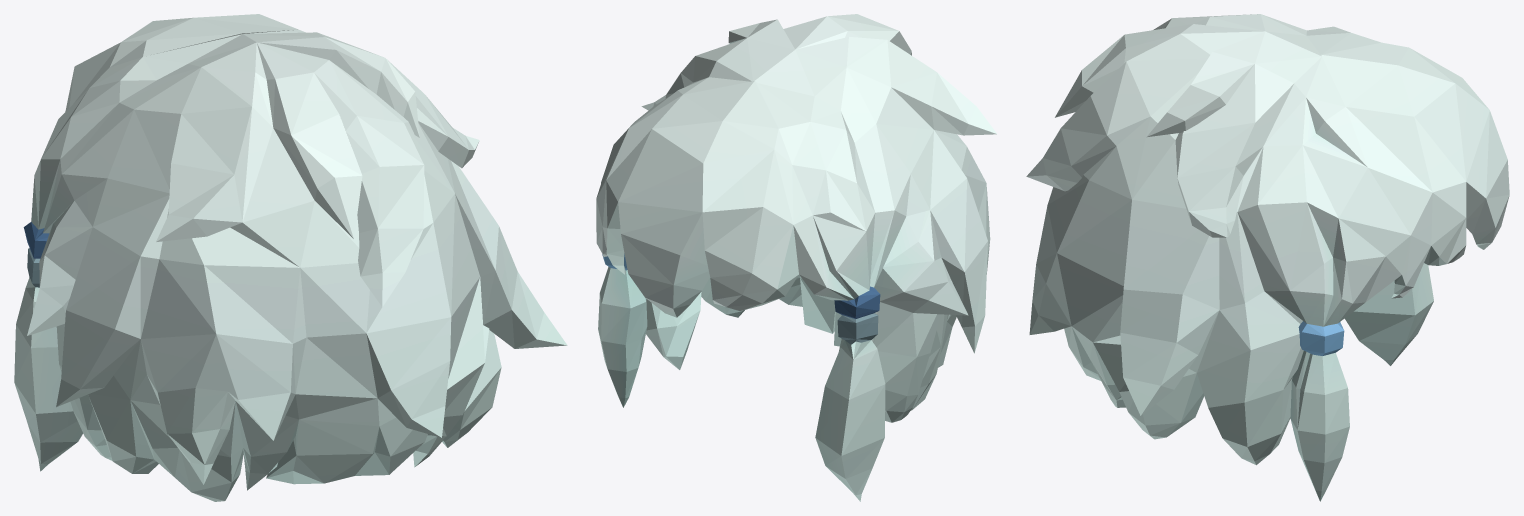
The model's file is CharSkyKid_Hair_ShaggyShort.glb.
3 renders of one model, left to right at view 1: azimuth 30°, elevation 25°; view 2: azimuth 150°, elevation 25°; view 3: azimuth 270°, elevation 25°, orthographic. The views are drawn at different scales.
Visible parts, largest first — view 1: CharSkyKid_Hair_ShaggyShort; view 2: CharSkyKid_Hair_ShaggyShort; view 3: CharSkyKid_Hair_ShaggyShort.
Boxes of the visible parts, left/top/right/bottom form: CharSkyKid_Hair_ShaggyShort: left=14, top=14, right=567, bottom=501; CharSkyKid_Hair_ShaggyShort: left=596, top=14, right=997, bottom=501; CharSkyKid_Hair_ShaggyShort: left=1026, top=14, right=1509, bottom=501.
Bounding box in the file's own units: 3.25 × 3.03 × 3.31.
1 material, 1 textured.
